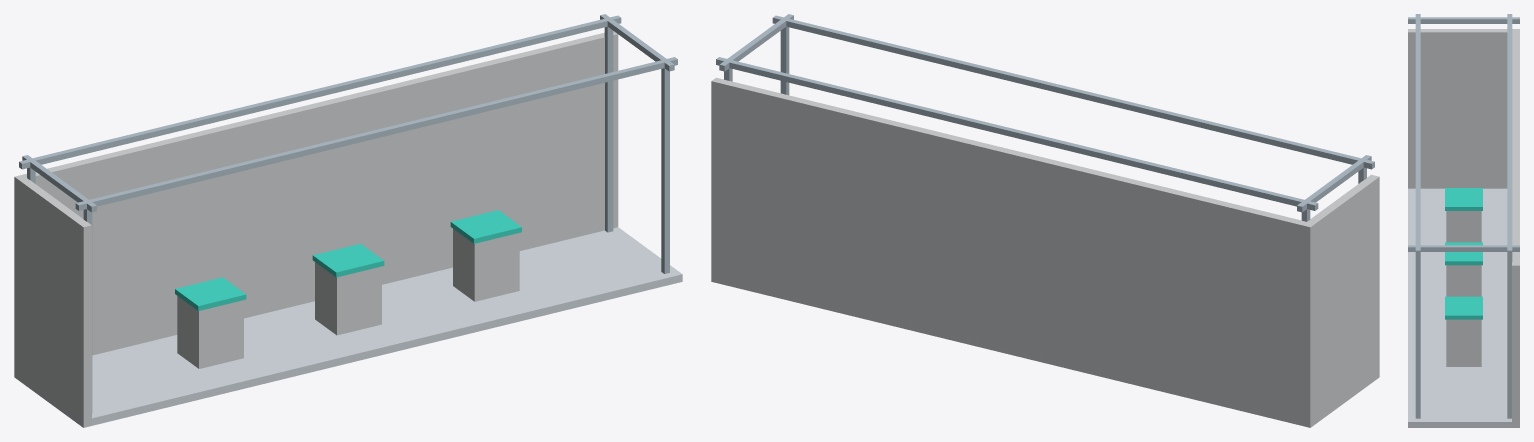
The picture shows the model from 3 angles, left to right: view 1: azimuth 30°, elevation 25°; view 2: azimuth 150°, elevation 25°; view 3: azimuth 270°, elevation 25°; orthographic projection. The views are drawn at different scales.
Visible parts, largest first — view 1: Exhibition Booth Concept; view 2: Exhibition Booth Concept; view 3: Exhibition Booth Concept.
Part boxes in pixels (x1,y1,x2,y2): Exhibition Booth Concept: [14, 14, 682, 427]; Exhibition Booth Concept: [711, 14, 1379, 427]; Exhibition Booth Concept: [1408, 14, 1519, 427].
Size of the model in its own units: 10 by 3.49 by 2.
